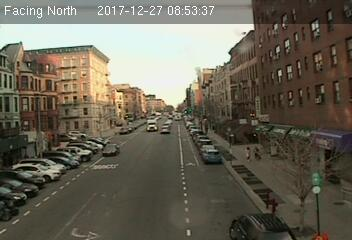car: (230, 212, 300, 240), (101, 142, 119, 156), (203, 147, 220, 161)
pedestrian: (245, 144, 251, 163)
